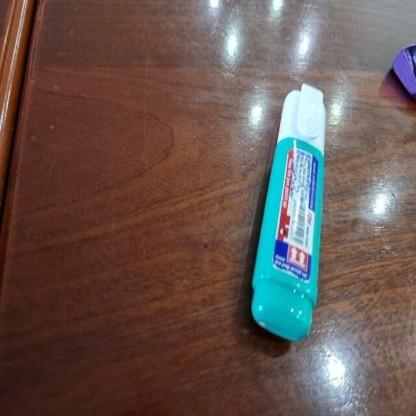not trash: (243, 84, 331, 340), (384, 39, 416, 99)
